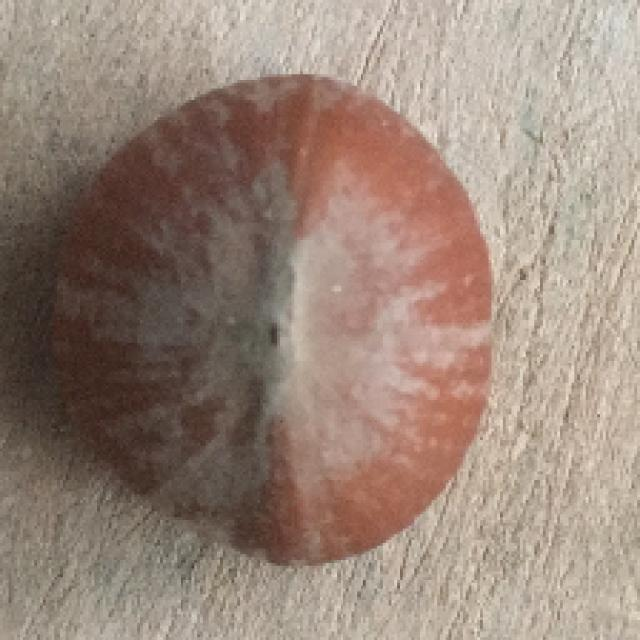QualityHazelnut: (45, 71, 492, 569)
